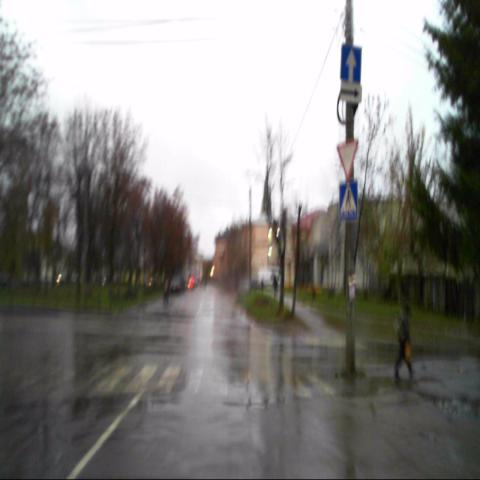8_3_1: (340, 81, 362, 104)
